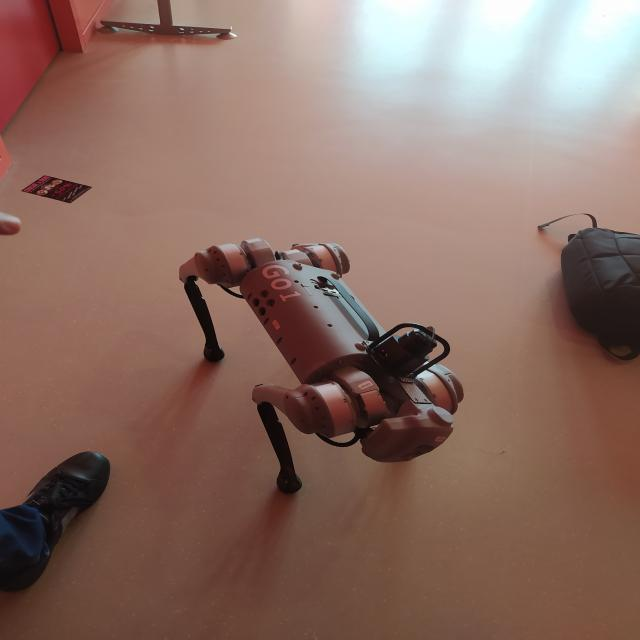unitree-go1-robot: (169, 227, 477, 507)
